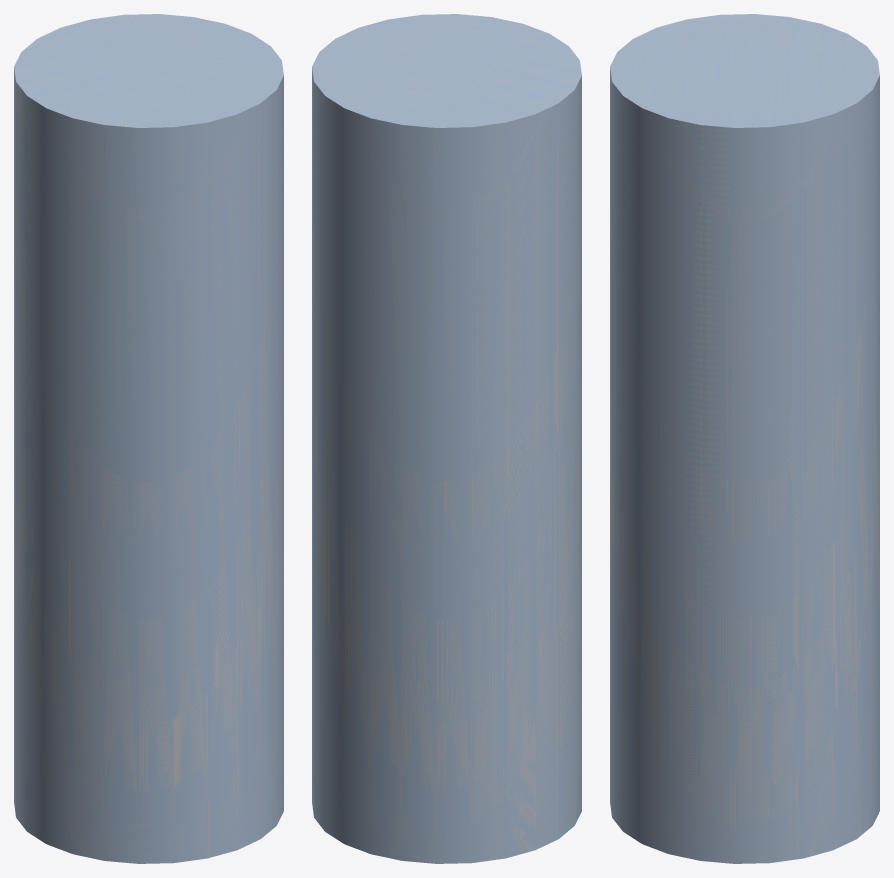
Rendered from original-37.obj.
3 renders of one model, left to right at view 1: azimuth 30°, elevation 25°; view 2: azimuth 150°, elevation 25°; view 3: azimuth 270°, elevation 25°, orthographic.
Visible parts, largest first — view 1: Component_8_5/Component_8/mesh17/mesh17-geometry#mesh17-geometry; view 2: Component_8_5/Component_8/mesh17/mesh17-geometry#mesh17-geometry; view 3: Component_8_5/Component_8/mesh17/mesh17-geometry#mesh17-geometry.
Part boxes in pixels (x1,y1,x2,y2): Component_8_5/Component_8/mesh17/mesh17-geometry#mesh17-geometry: (14, 14, 283, 863); Component_8_5/Component_8/mesh17/mesh17-geometry#mesh17-geometry: (312, 14, 581, 863); Component_8_5/Component_8/mesh17/mesh17-geometry#mesh17-geometry: (610, 14, 879, 863).
Bounding box in the file's own units: 0.00655 × 0.0197 × 0.00655.
